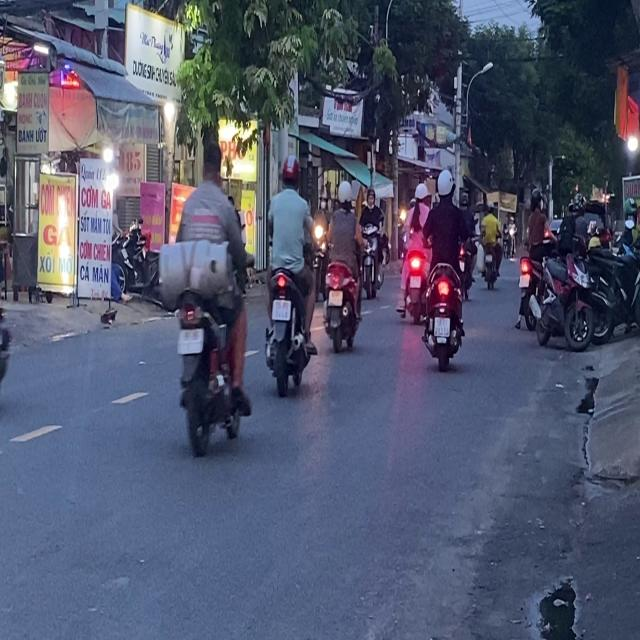helmet: (279, 153, 300, 190), (436, 169, 453, 200), (336, 179, 352, 208)
licenseplate: (158, 138, 252, 457), (262, 153, 317, 394), (422, 169, 468, 370), (321, 178, 363, 351)
motorcyclist: (200, 140, 222, 183)
nohelmet: (178, 329, 203, 353), (272, 300, 290, 320), (434, 317, 450, 336), (329, 289, 343, 306)
